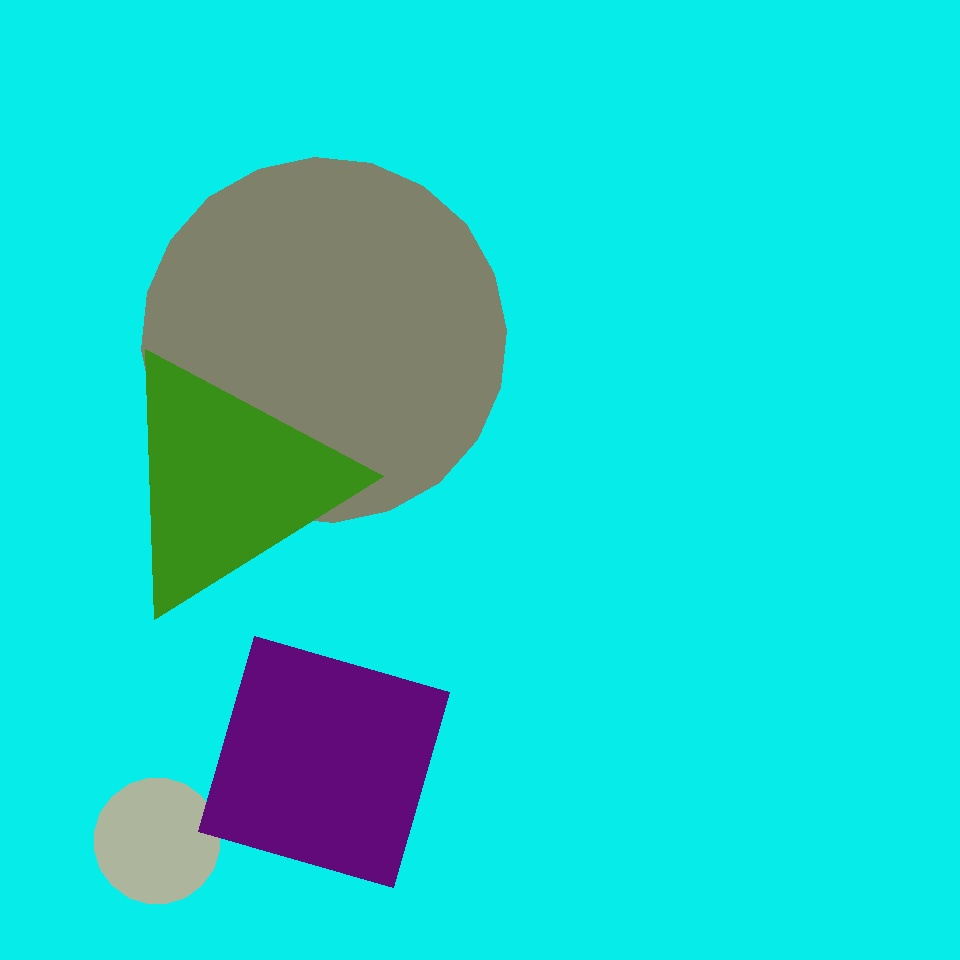circle: (109, 347, 347, 617)
square: (57, 116, 327, 387), (198, 636, 450, 888)
triangle: (142, 158, 506, 522), (5, 623, 291, 909), (94, 779, 220, 904)
